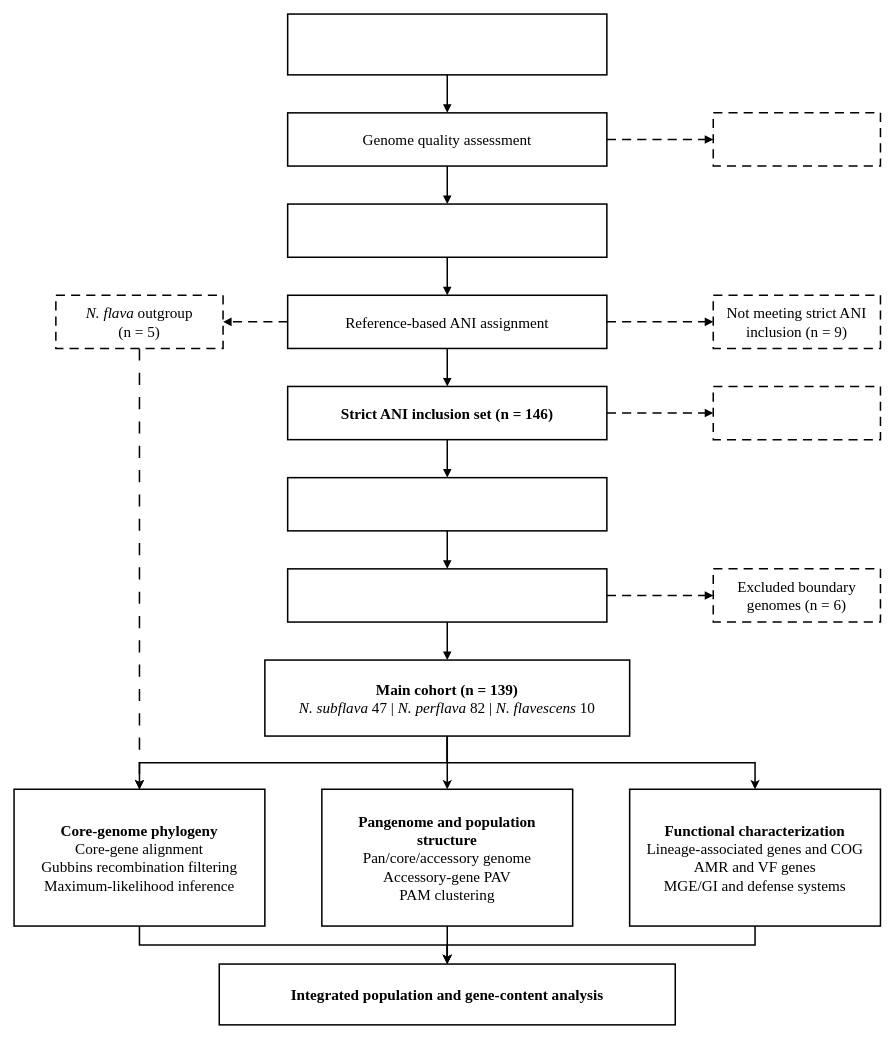
Image size: 894x1038. Some labels were removed from this diagram. Each missing label, with the box of its shape:
Downloaded genome assemblies and associated metadata (n = 161): (287, 13, 607, 75)
Experimental derivative excluded (n = 1): (712, 385, 881, 440)
Phylogenetic-concordance screening: (287, 568, 607, 622)
Primary analysis cohort (n = 145): (287, 477, 607, 531)
QC-pass genome set (n = 155): (287, 203, 607, 258)
Technical QC failures (n = 6): (712, 112, 881, 166)
